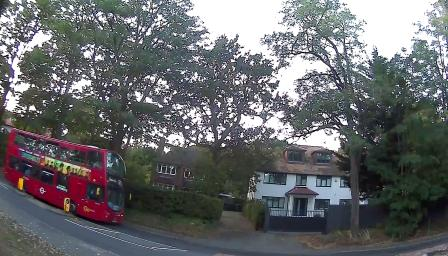Cars: (10, 125, 130, 225)
